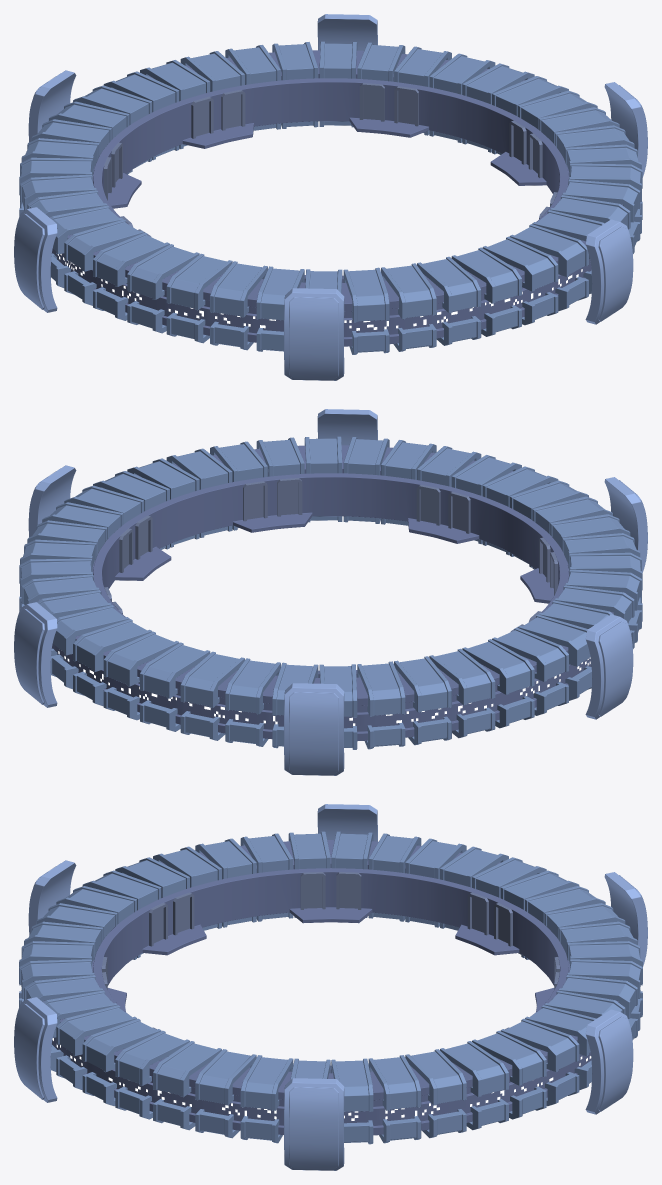
File: two_ring.glb
The picture shows the model from 3 angles, top to bottom: view 1: azimuth 30°, elevation 25°; view 2: azimuth 150°, elevation 25°; view 3: azimuth 270°, elevation 25°; orthographic projection.
Parts seen in each view (by area): view 1: Cylinder.033, Cylinder.002, Cylinder.008, Plane.002, Cylinder.017, Plane.001, Plane.003, Plane.005, Plane.007, Plane.004; view 2: Cylinder.033, Cylinder.002, Cylinder.008, Plane.004, Cylinder.017, Plane.003, Plane.007, Plane.002, Plane.001, Plane.005; view 3: Cylinder.033, Cylinder.002, Plane.005, Cylinder.008, Cylinder.017, Plane.007, Plane.001, Plane.004, Plane.003, Plane.002.
Boxes of the visible parts, x1,y1,x2,y2 form: Cylinder.033: [19, 41, 642, 354]; Cylinder.002: [35, 50, 622, 346]; Cylinder.008: [104, 83, 557, 237]; Plane.002: [284, 288, 344, 380]; Cylinder.017: [52, 248, 591, 331]; Plane.001: [585, 219, 633, 324]; Plane.003: [14, 207, 57, 312]; Plane.005: [604, 82, 647, 177]; Plane.007: [317, 14, 377, 50]; Plane.004: [28, 70, 76, 142]; Cylinder.033: [19, 436, 642, 749]; Cylinder.002: [39, 445, 628, 741]; Cylinder.008: [104, 478, 557, 632]; Plane.004: [284, 683, 344, 775]; Cylinder.017: [52, 644, 591, 725]; Plane.003: [585, 614, 633, 719]; Plane.007: [14, 602, 57, 707]; Plane.002: [604, 477, 647, 572]; Plane.001: [317, 409, 377, 445]; Plane.005: [28, 465, 76, 537]; Cylinder.033: [19, 831, 642, 1144]; Cylinder.002: [43, 840, 618, 1135]; Plane.005: [284, 1078, 344, 1170]; Cylinder.008: [102, 872, 559, 1029]; Cylinder.017: [52, 1037, 591, 1121]; Plane.007: [585, 1009, 633, 1114]; Plane.001: [14, 997, 57, 1102]; Plane.004: [604, 872, 647, 966]; Plane.003: [317, 804, 377, 841]; Plane.002: [28, 860, 76, 935].
Bounding box in the file's own units: 9.24 × 1.29 × 8.51.
